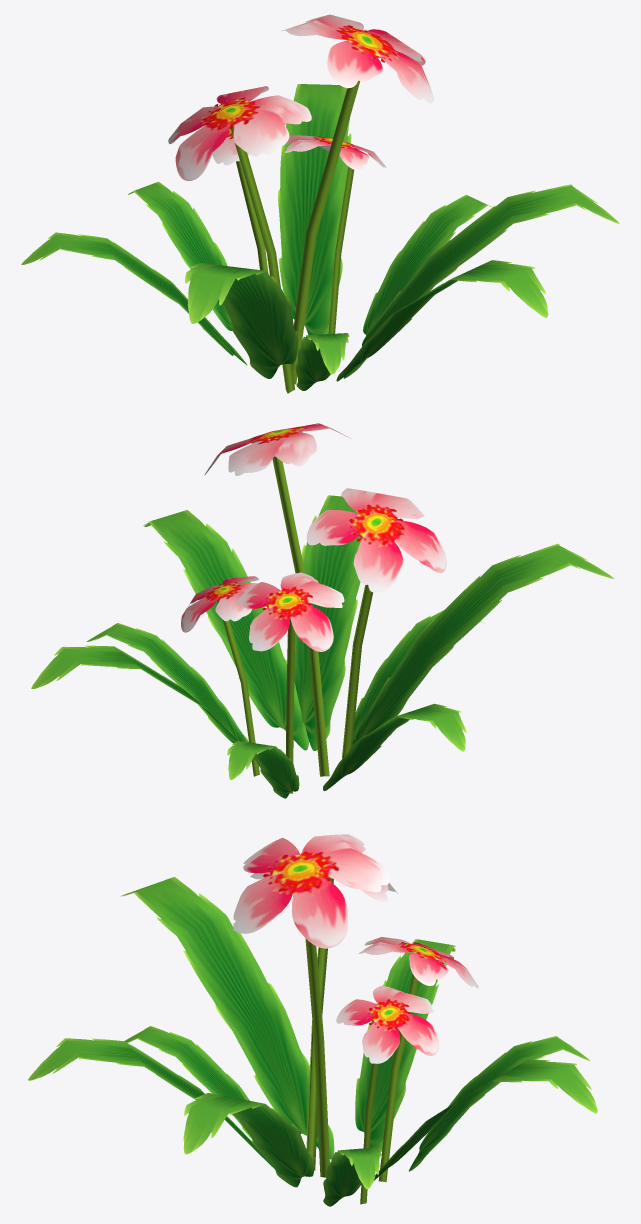
Rendered from Flower02.FBX.
3 views of the same model, one above another, from view 1: azimuth 30°, elevation 25°; view 2: azimuth 150°, elevation 25°; view 3: azimuth 270°, elevation 25° (orthographic). The views are drawn at different scales.
Parts seen in each view (by area): view 1: Flower01; view 2: Flower01; view 3: Flower01.
Boxes of the visible parts, x1=… form: Flower01: x1=21, y1=14, x2=619, y2=393; Flower01: x1=31, y1=423, x2=613, y2=798; Flower01: x1=28, y1=834, x2=597, y2=1206.
Bounding box in the file's own units: 9.39 × 6.22 × 9.85.
